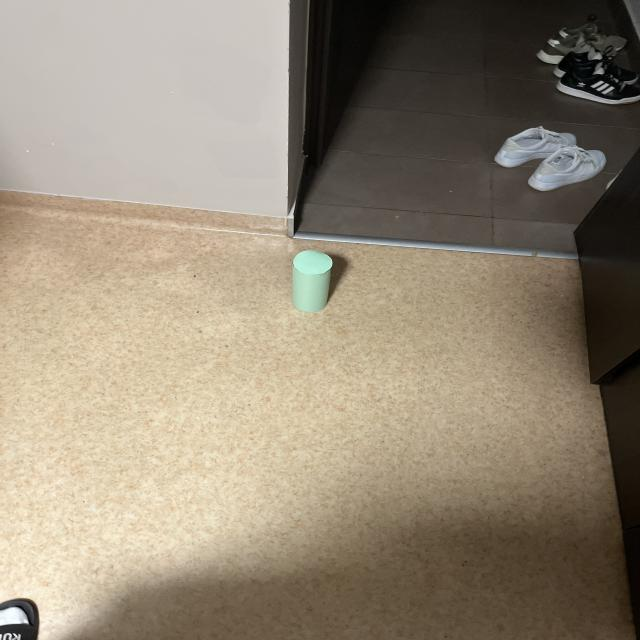meta: (293, 250, 332, 312)
